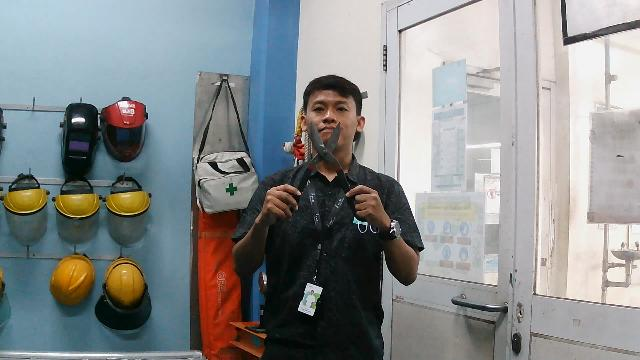gunting_plat: (275, 120, 366, 226)
